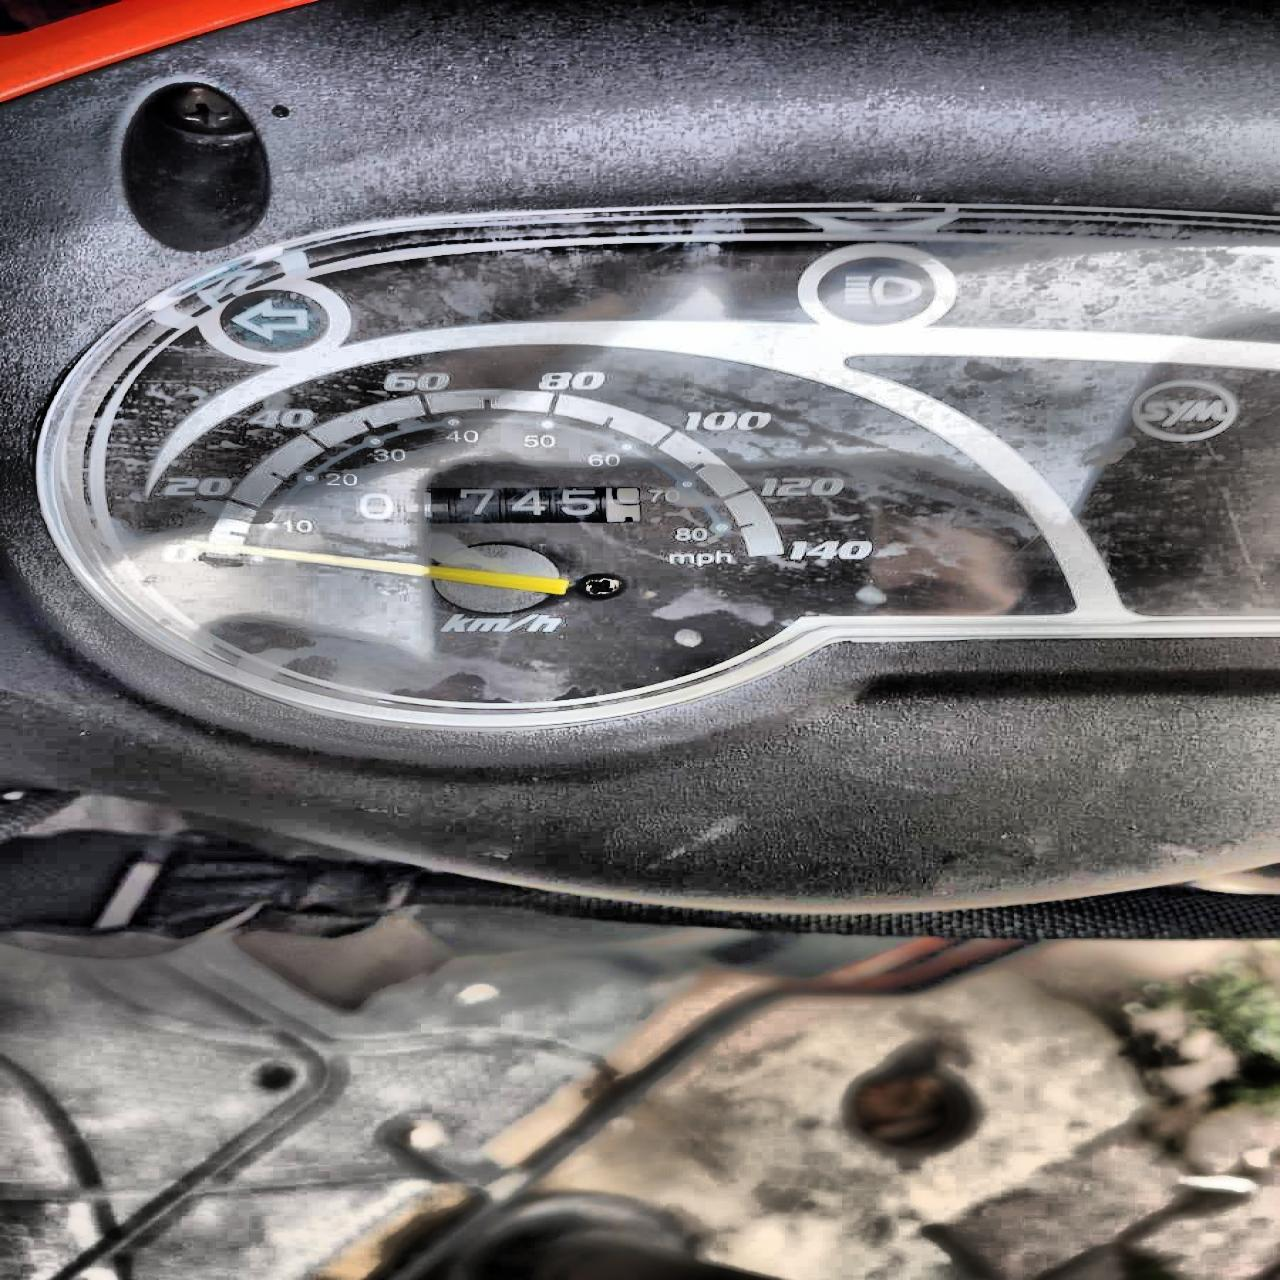0: (353, 490, 395, 520), (607, 485, 641, 508)
1: (414, 490, 434, 520)
4: (506, 489, 546, 516)
5: (559, 488, 598, 517)
7: (456, 486, 497, 516)
odometer: (326, 485, 648, 525)
